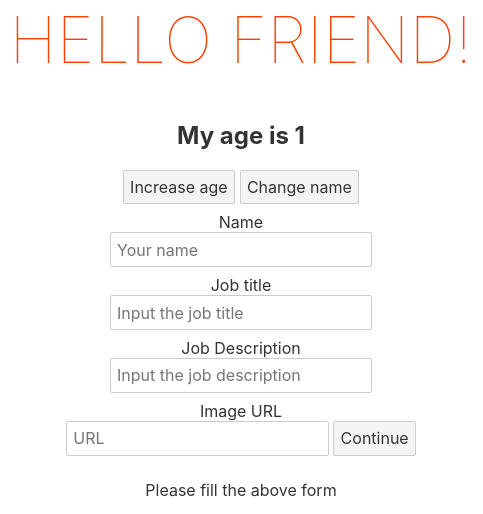
Scenario: Count age increments when button is clicked
Click the button "Increase age": (179, 187) [123, 170, 235, 204]
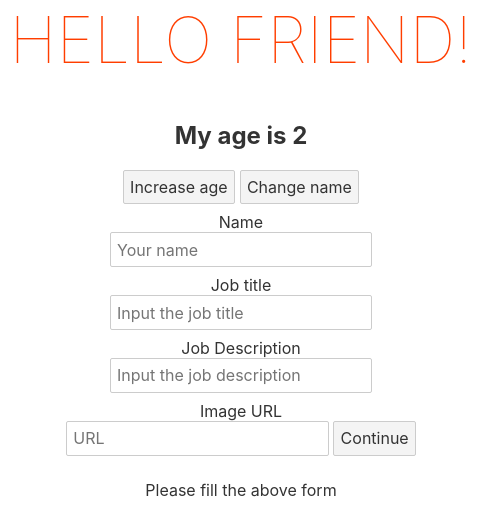
Result: the heading "My age is 1" reads "My age is 2" at [175, 121, 307, 150]
